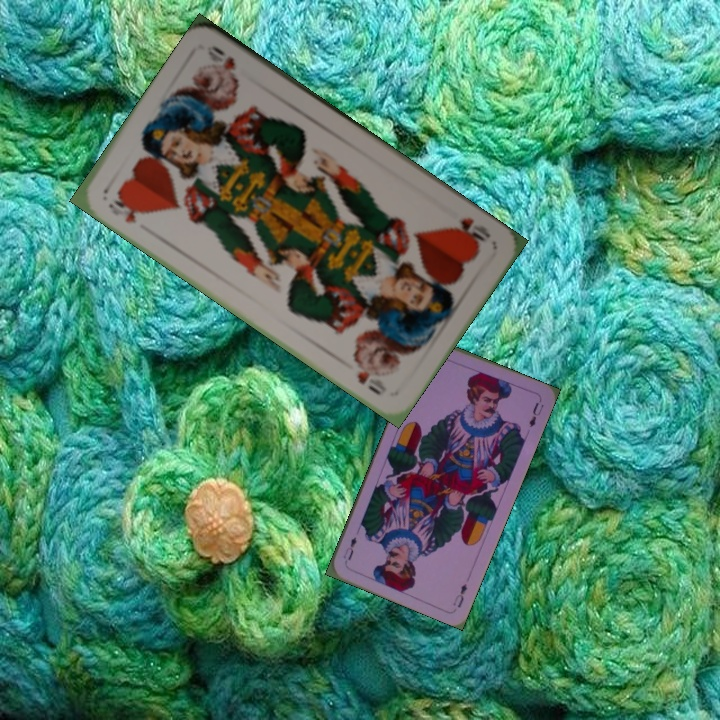EU: (449, 579, 470, 610)
HO: (450, 213, 493, 248), (104, 193, 147, 226)
